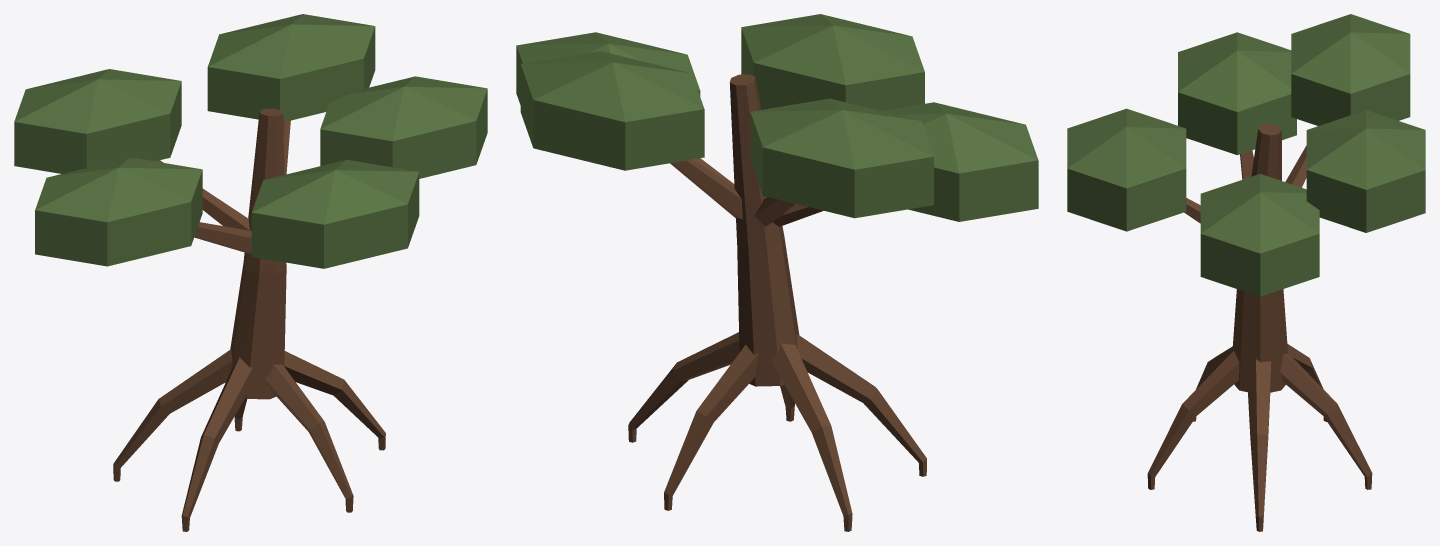
The model's file is Plant_Feature_Lakeside_StiltRootTree_001_LOD1.glb.
3 renders of one model, left to right at view 1: azimuth 30°, elevation 25°; view 2: azimuth 150°, elevation 25°; view 3: azimuth 270°, elevation 25°, orthographic. The views are drawn at different scales.
Visible parts, largest first — view 1: Plant_Feature_Lakeside_StiltRootTree_001_LOD1; view 2: Plant_Feature_Lakeside_StiltRootTree_001_LOD1; view 3: Plant_Feature_Lakeside_StiltRootTree_001_LOD1.
Boxes of the visible parts, x1,y1,x2,y2 form: Plant_Feature_Lakeside_StiltRootTree_001_LOD1: (14, 14, 487, 531); Plant_Feature_Lakeside_StiltRootTree_001_LOD1: (516, 14, 1038, 531); Plant_Feature_Lakeside_StiltRootTree_001_LOD1: (1067, 14, 1425, 531).
Size of the model in its own units: 5.28 by 4.28 by 3.61.
